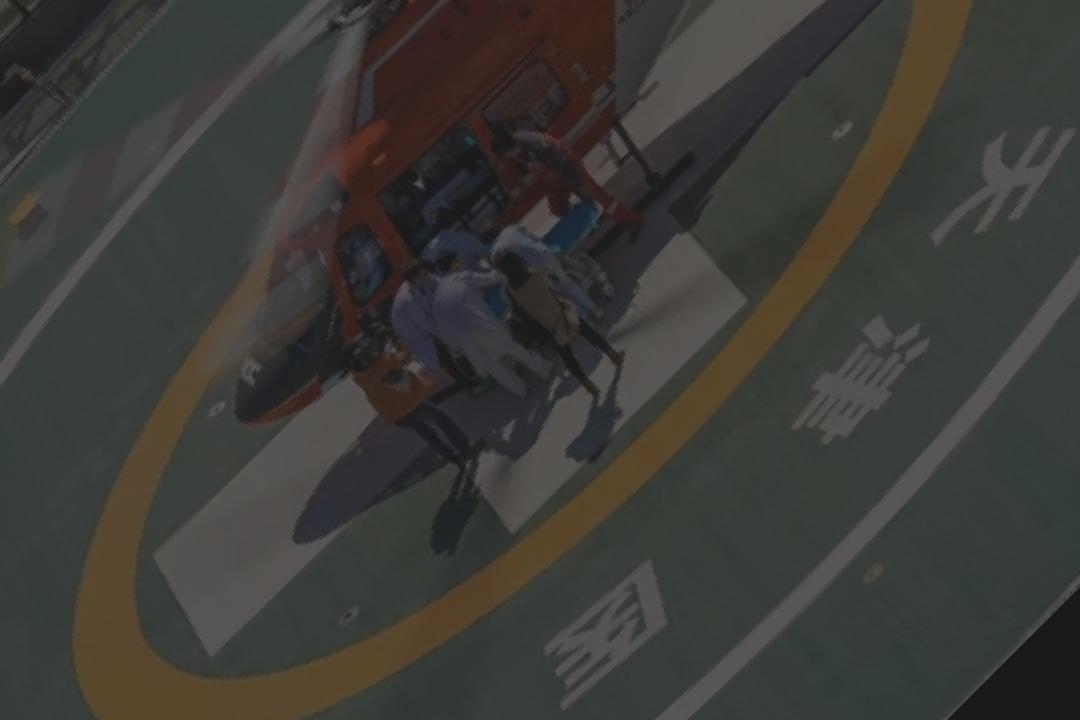Apron: (79, 18, 932, 647)
